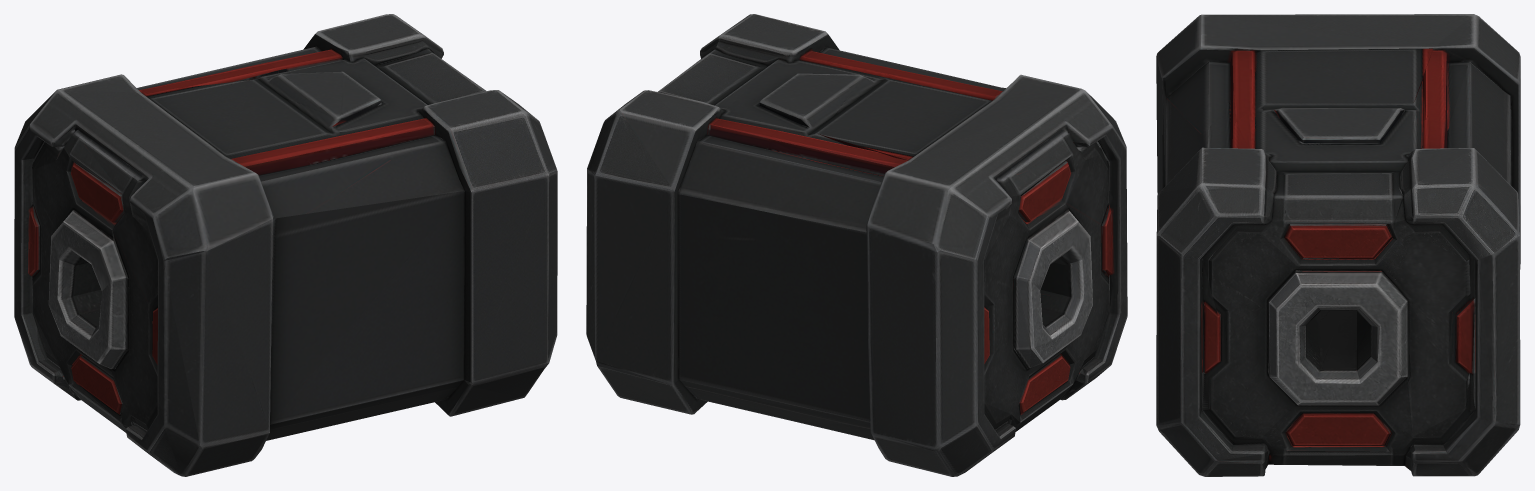
File: puncher_housing.glb
3 views of the same model, side by side, from view 1: azimuth 30°, elevation 25°; view 2: azimuth 150°, elevation 25°; view 3: azimuth 270°, elevation 25° (orthographic). The views are drawn at different scales.
Visible parts, largest first — view 1: output_unwrapped; view 2: output_unwrapped; view 3: output_unwrapped.
Boxes of the visible parts, left/top/right/bottom form: output_unwrapped: left=14, top=14, right=557, bottom=476; output_unwrapped: left=586, top=14, right=1127, bottom=476; output_unwrapped: left=1156, top=14, right=1520, bottom=476.
Size of the model in its own units: 1.9 by 1.29 by 1.43.
Materials: 1 (1 with a texture image).
